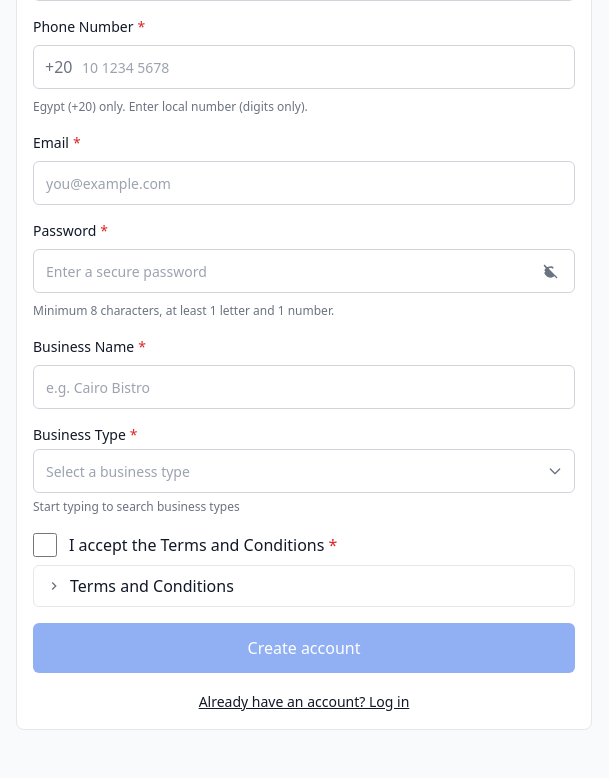
Test case: Terms and Conditions Collapsible › expands terms content when checkbox is checked
(page scrolled)
Expected: the text "Terms and Conditions placeholder" is not shown
// Click the collapsible trigger
Click the button "Terms and Conditions".
click(152, 586)  # box [34,566,574,606]
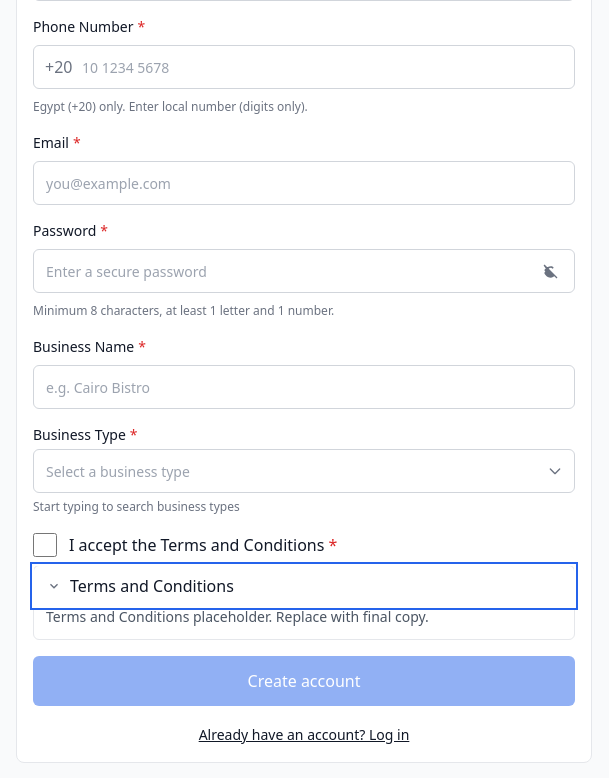
Expected: the text "Terms and Conditions placeholder. Replace with final copy." is shown, [46,607,429,626]
